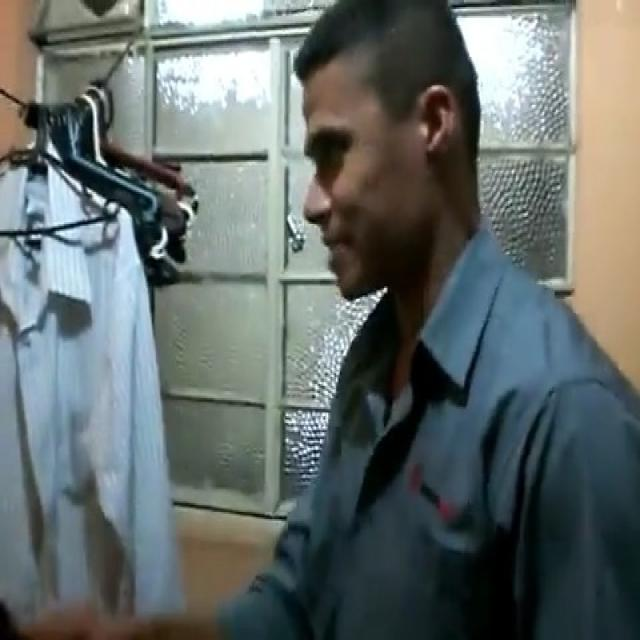shirt: (209, 210, 640, 640), (0, 137, 189, 624)
